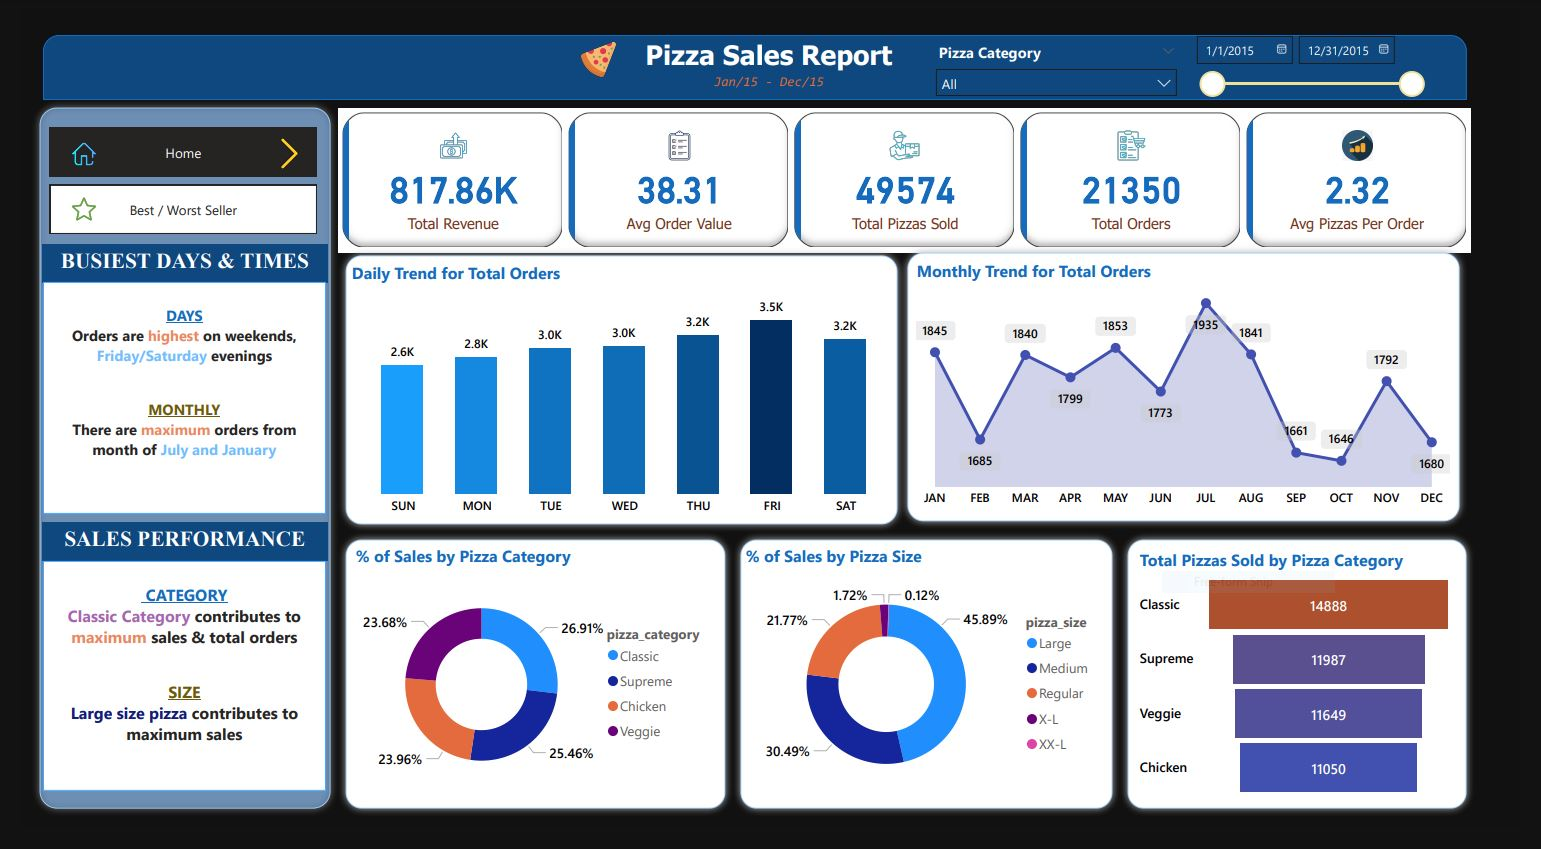

The dashboard page shown, as its layout file describes it:
{"tool":"powerbi","page":{"name":"Home","canvas":[1500,820],"ordinal":0},"visuals":[{"type":"cardVisual","fields":{"Data":["pizza_sales.Total Revenue","pizza_sales.Avg Order Value","pizza_sales.Total Pizzas Sold","pizza_sales.Total Orders","pizza_sales.Avg Pizzas Per Order"]},"box":[319.4,100.1,1133.1,144.5],"z":0},{"type":"shape","box":[24.3,27.3,1424.2,64.7],"z":1000},{"type":"textbox","box":[599.8,25.3,300.5,51.8],"z":2000},{"type":"textbox","box":[661.9,58.7,176.1,31.1],"z":3000},{"type":"image","box":[553.9,29.3,52.6,45.5],"z":4000},{"type":"shape","box":[319.4,239.6,567,284],"z":5000},{"type":"columnChart","title":"Daily Trend for Total Orders","fields":{"Category":["pizza_sales.Order Day"],"Y":["pizza_sales.Total Orders"]},"box":[328.1,254.4,556,261.3],"z":6000},{"type":"shape","box":[880.7,237.1,567.5,284.3],"z":7000},{"type":"areaChart","title":"Monthly Trend for Total Orders","fields":{"Category":["pizza_sales.Order Month"],"Y":["pizza_sales.Total Orders"]},"box":[893.3,252.1,542.2,255.6],"z":8000},{"type":"shape","box":[1100.5,523.8,354.6,284.3],"z":9000},{"type":"shape","box":[713.7,523.8,386.8,284.3],"z":10000},{"type":"shape","box":[318.9,523.8,394.9,284.3],"z":11000},{"type":"donutChart","title":"% of Sales by Pizza Category","fields":{"Category":["pizza_sales.pizza_category"],"Y":["pizza_sales.Total Revenue"]},"box":[331.8,537.3,370,258.2],"z":12000},{"type":"donutChart","title":"% of Sales by Pizza Size","fields":{"Y":["pizza_sales.Total Revenue"],"Category":["pizza_sales.pizza_size"]},"box":[721.5,537.3,370.6,257.8],"z":13000},{"type":"funnel","title":"Total Pizzas Sold by Pizza Category","fields":{"Category":["pizza_sales.pizza_category"],"Y":["pizza_sales.Total Pizzas Sold"]},"box":[1115.9,541.4,323,253.6],"z":14000},{"type":"shape","box":[12.7,92.1,306.2,716],"z":15000},{"type":"textbox","box":[23,236,285.5,39.1],"z":16000},{"type":"textbox","box":[24.3,273.9,283,232.5],"z":17000},{"type":"textbox","box":[23,514,285.5,39.1],"z":18000},{"type":"textbox","box":[24.2,553,283.2,230.2],"z":19000},{"type":"slicer","fields":{"Values":["pizza_sales.pizza_category"]},"box":[907.1,28.8,261.3,61],"z":19001},{"type":"slicer","fields":{"Values":["pizza_sales.order_date"]},"box":[1165,18.4,248.7,79.4],"z":19002},{"type":"pageNavigator","box":[31.3,120.3,267.9,49.5],"z":19003},{"type":"pageNavigator","box":[31.3,176.9,267.9,49.5],"z":19004},{"type":"image","box":[250.7,125.3,40.4,40.4],"z":19005},{"type":"image","box":[48.5,185,33.4,33.4],"z":19006},{"type":"image","box":[48.5,125.3,33.4,41.4],"z":19007}]}

Visuals, with their boxes in screenshot pixels (x1, y1, x2, y2), scaled from the page's 1500x820 canvas onto the 1541x849 screenshot:
cardVisual - pizza_sales.Total Revenue x pizza_sales.Avg Order Value: region(328, 104, 1492, 253)
shape: region(25, 28, 1488, 95)
textbox: region(616, 26, 925, 80)
textbox: region(680, 61, 861, 93)
image: region(569, 30, 623, 77)
shape: region(328, 248, 911, 542)
"Daily Trend for Total Orders" columnChart: region(337, 263, 908, 534)
shape: region(905, 245, 1488, 540)
"Monthly Trend for Total Orders" areaChart: region(918, 261, 1475, 526)
shape: region(1131, 542, 1495, 837)
shape: region(733, 542, 1131, 837)
shape: region(328, 542, 733, 837)
"% of Sales by Pizza Category" donutChart: region(341, 556, 721, 824)
"% of Sales by Pizza Size" donutChart: region(741, 556, 1122, 823)
"Total Pizzas Sold by Pizza Category" funnel: region(1146, 561, 1478, 823)
shape: region(13, 95, 328, 837)
textbox: region(24, 244, 317, 285)
textbox: region(25, 284, 316, 524)
textbox: region(24, 532, 317, 573)
textbox: region(25, 573, 316, 811)
slicer - pizza_sales.pizza_category: region(932, 30, 1200, 93)
slicer - pizza_sales.order_date: region(1197, 19, 1452, 101)
pageNavigator: region(32, 125, 307, 176)
pageNavigator: region(32, 183, 307, 234)
image: region(258, 130, 299, 172)
image: region(50, 192, 84, 226)
image: region(50, 130, 84, 173)
